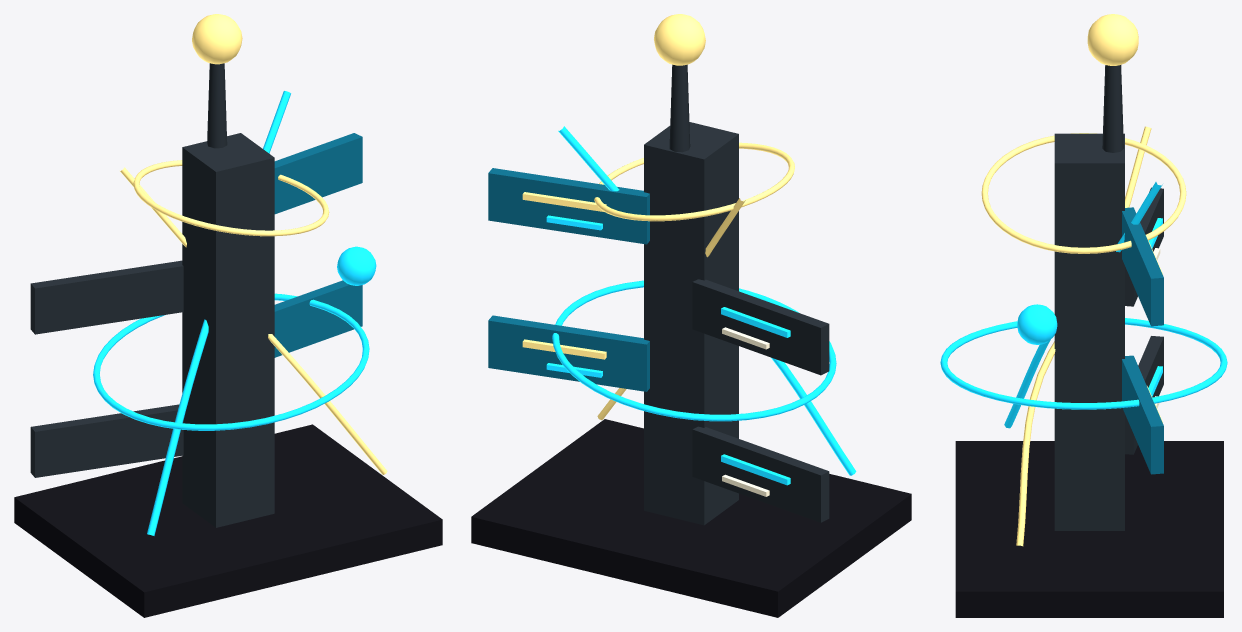
File: observability-log-totem.glb
The picture shows the model from 3 angles, left to right: view 1: azimuth 30°, elevation 25°; view 2: azimuth 150°, elevation 25°; view 3: azimuth 270°, elevation 25°; orthographic projection. The views are drawn at different scales.
Visible parts, largest first — view 1: log-totem-pad, log-totem-spine, log-screen-2, log-screen-0, log-screen-3, log-screen-1, totem-low-orbit, totem-trace-ladder-a, totem-high-orbit, totem-alert-node, totem-trace-ladder-b, totem-alert-pin (+1 smaller); view 2: log-totem-pad, log-totem-spine, log-screen-1, log-screen-3, log-screen-2, log-screen-0, totem-low-orbit, totem-alert-node, totem-high-orbit, totem-trace-ladder-a, totem-alert-pin, totem-trace-ladder-b (+4 smaller); view 3: log-totem-pad, log-totem-spine, totem-low-orbit, log-screen-1, totem-high-orbit, log-screen-3, totem-alert-node, totem-trace-ladder-b, totem-alert-pin, totem-correlation-node, log-screen-0, totem-trace-ladder-a (+1 smaller).
Boxes of the visible parts, x1,y1,x2,y2 form: log-totem-pad: (14, 424, 442, 617); log-totem-spine: (182, 133, 274, 527); log-screen-2: (30, 260, 183, 334); log-screen-0: (30, 404, 183, 477); log-screen-3: (274, 133, 362, 214); log-screen-1: (274, 280, 362, 357); totem-low-orbit: (93, 293, 369, 430); totem-trace-ladder-a: (147, 91, 290, 535); totem-high-orbit: (133, 160, 329, 236); totem-alert-node: (192, 14, 242, 64); totem-trace-ladder-b: (120, 167, 387, 474); totem-alert-pin: (207, 63, 227, 148); log-totem-pad: (471, 419, 911, 617); log-totem-spine: (644, 122, 738, 525); log-screen-1: (488, 315, 649, 391); log-screen-3: (488, 168, 649, 244); log-screen-2: (692, 279, 829, 375); log-screen-0: (692, 426, 829, 522); totem-low-orbit: (552, 280, 836, 421); totem-alert-node: (654, 14, 705, 65); totem-high-orbit: (594, 142, 794, 221); totem-trace-ladder-a: (558, 126, 856, 475); totem-alert-pin: (669, 64, 690, 152); totem-trace-ladder-b: (597, 198, 745, 420); log-totem-pad: (955, 441, 1223, 617); log-totem-spine: (1054, 133, 1124, 530); totem-low-orbit: (940, 318, 1227, 409); log-screen-1: (1122, 355, 1163, 474); totem-high-orbit: (981, 133, 1186, 253); log-screen-3: (1122, 207, 1163, 326); totem-alert-node: (1087, 14, 1138, 65); totem-trace-ladder-b: (1016, 126, 1151, 546); totem-alert-pin: (1102, 65, 1123, 152); totem-correlation-node: (1017, 304, 1057, 344); log-screen-0: (1125, 336, 1163, 454); totem-trace-ladder-a: (1004, 182, 1162, 428).
Size of the model in its own units: 1.34 by 1.99 by 0.984.
